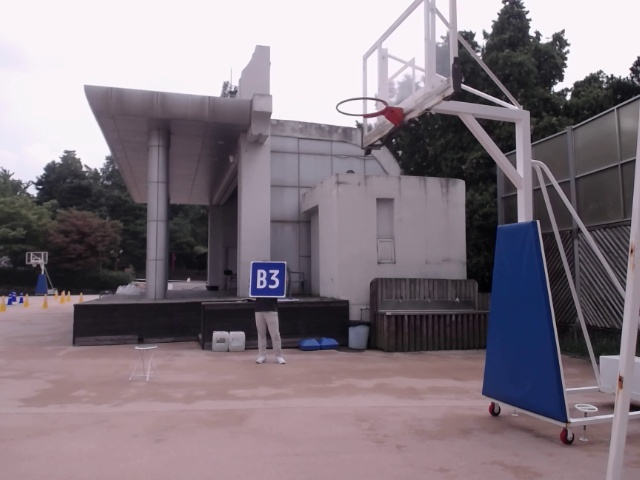delivery_b3: (251, 262, 286, 298)
